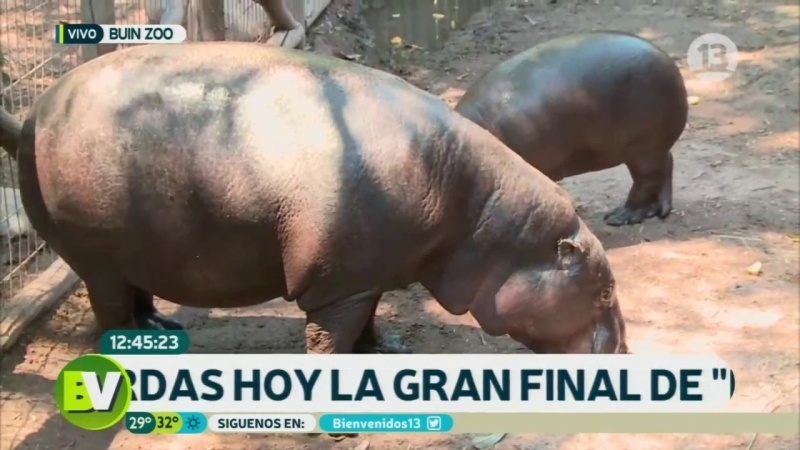hipopotamo: (13, 36, 660, 353), (449, 22, 696, 234)
